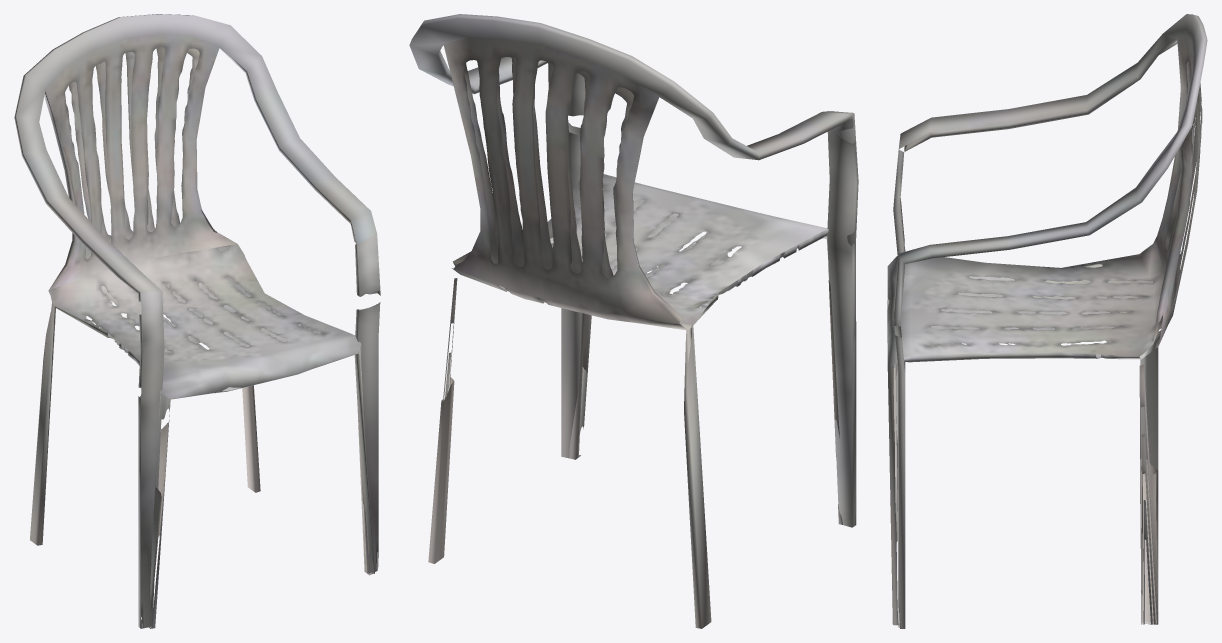
The model's file is lawn_chair.FBX.
3 renders of one model, left to right at view 1: azimuth 30°, elevation 25°; view 2: azimuth 150°, elevation 25°; view 3: azimuth 270°, elevation 25°, orthographic. The views are drawn at different scales.
Parts seen in each view (by area): view 1: lawn_chair; view 2: lawn_chair; view 3: lawn_chair.
Part boxes in pixels (<box>): lawn_chair: <box>14,14,380,628</box>; lawn_chair: <box>409,14,858,628</box>; lawn_chair: <box>887,14,1207,628</box>.
Size of the model in its own units: 61.16 by 111 by 61.
Materials: 1 (1 with a texture image).
